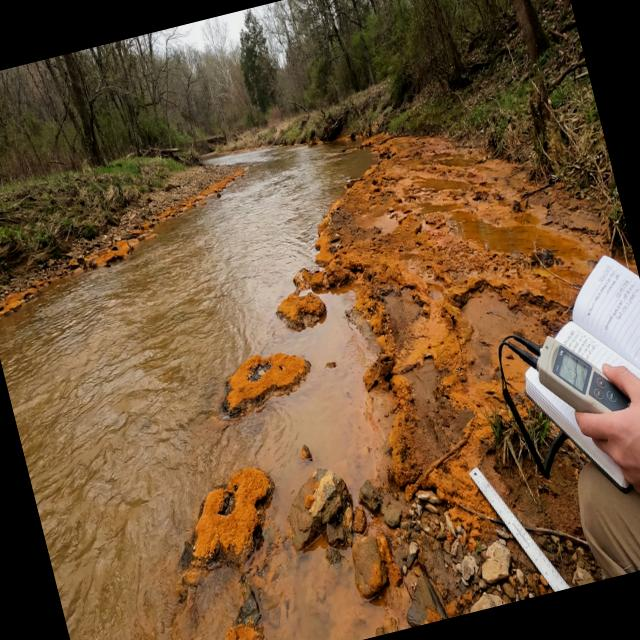yellow_boy: (0, 144, 383, 640)
